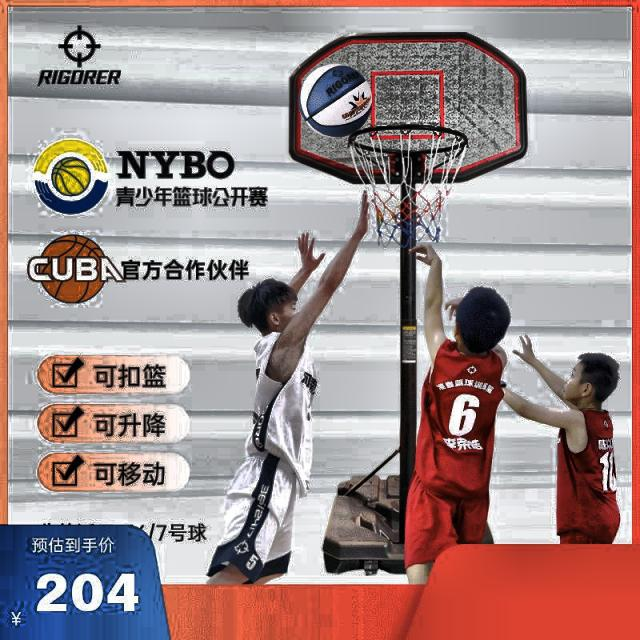rim: (350, 126, 469, 243)
